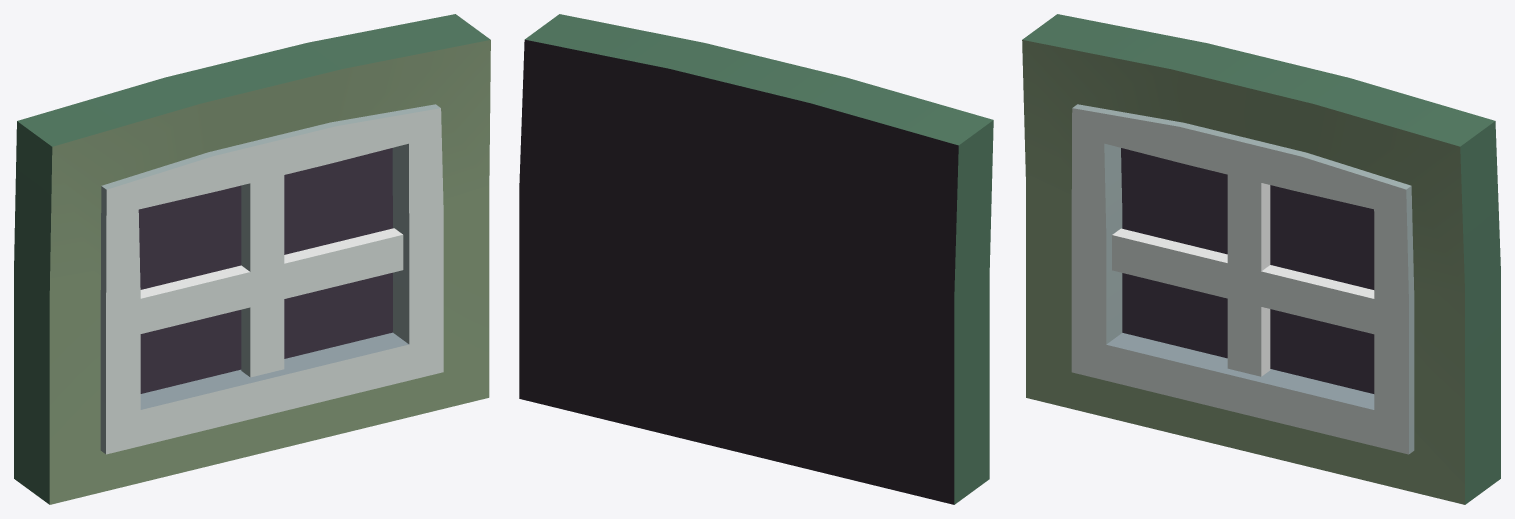
File: Window02_Green_White.glb
3 views of the same model, side by side, from view 1: azimuth 30°, elevation 25°; view 2: azimuth 150°, elevation 25°; view 3: azimuth 330°, elevation 25° (orthographic).
Parts seen in each view (by area): view 1: Window02_Green_White; view 2: Window02_Green_White; view 3: Window02_Green_White.
Boxes of the visible parts, left/top/right/bottom form: Window02_Green_White: left=14, top=14, right=490, bottom=504; Window02_Green_White: left=519, top=14, right=993, bottom=504; Window02_Green_White: left=1022, top=14, right=1500, bottom=504.
Bounding box in the file's own units: 0.9012 × 0.7186 × 0.1456.
Materials: 1 (1 with a texture image).
